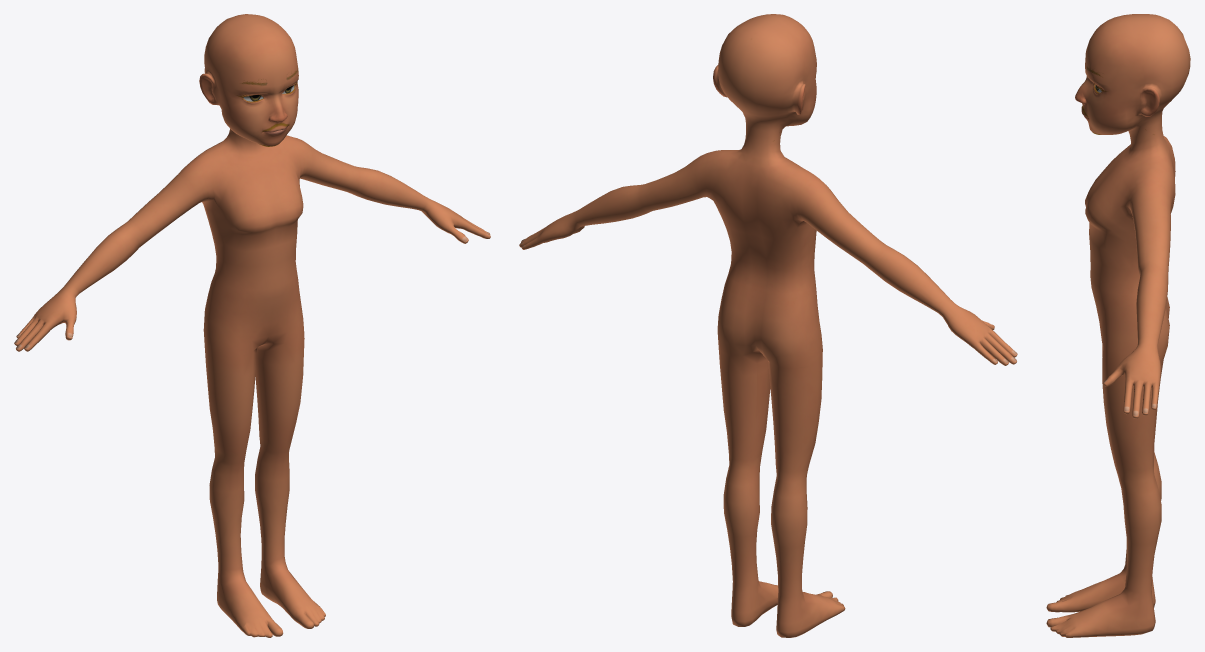
The model's file is frame_0076.glb.
The picture shows the model from 3 angles, left to right: view 1: azimuth 30°, elevation 25°; view 2: azimuth 150°, elevation 25°; view 3: azimuth 270°, elevation 25°; orthographic projection. The views are drawn at different scales.
Visible parts, largest first — view 1: frame_0076_head_geo; view 2: frame_0076_head_geo; view 3: frame_0076_head_geo.
Part boxes in pixels (x1=…): frame_0076_head_geo: x1=14, y1=14, x2=490, y2=637; frame_0076_head_geo: x1=519, y1=14, x2=1017, y2=637; frame_0076_head_geo: x1=1046, y1=14, x2=1190, y2=637.
Size of the model in its own units: 1.28 by 1.5 by 0.3253.
Materials: 3 (3 with a texture image).
